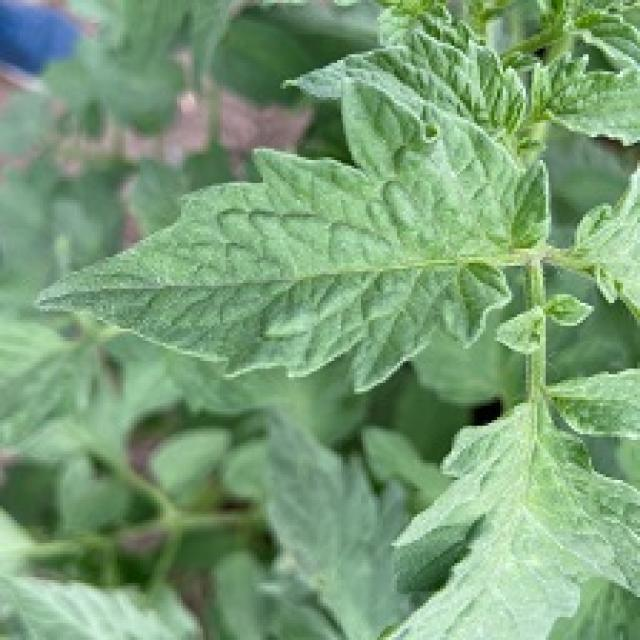Healthy: (34, 16, 600, 528)
